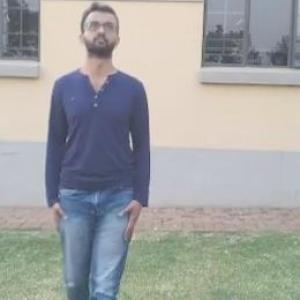follow: (40, 0, 153, 299)
